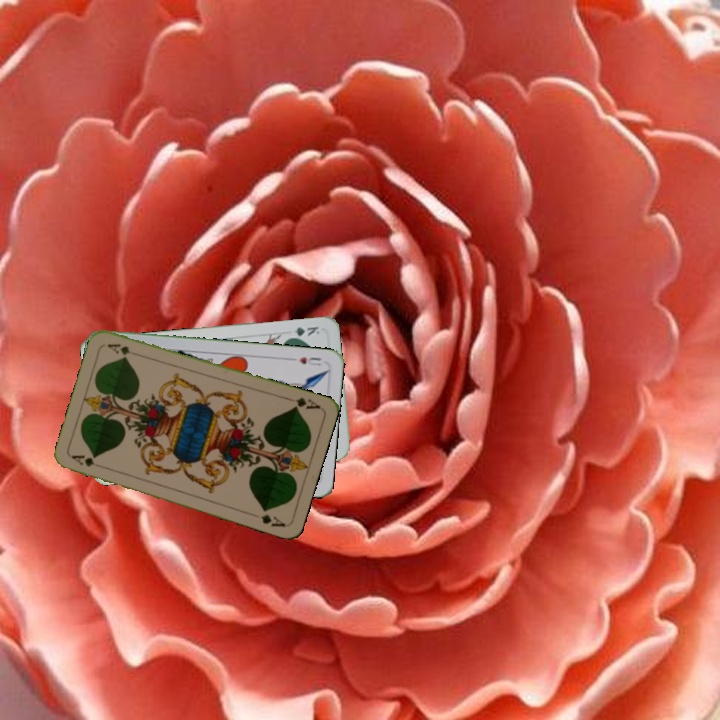GA: (283, 393, 323, 412), (68, 451, 97, 469)
GK: (283, 322, 322, 341)
HU: (287, 353, 324, 369)
